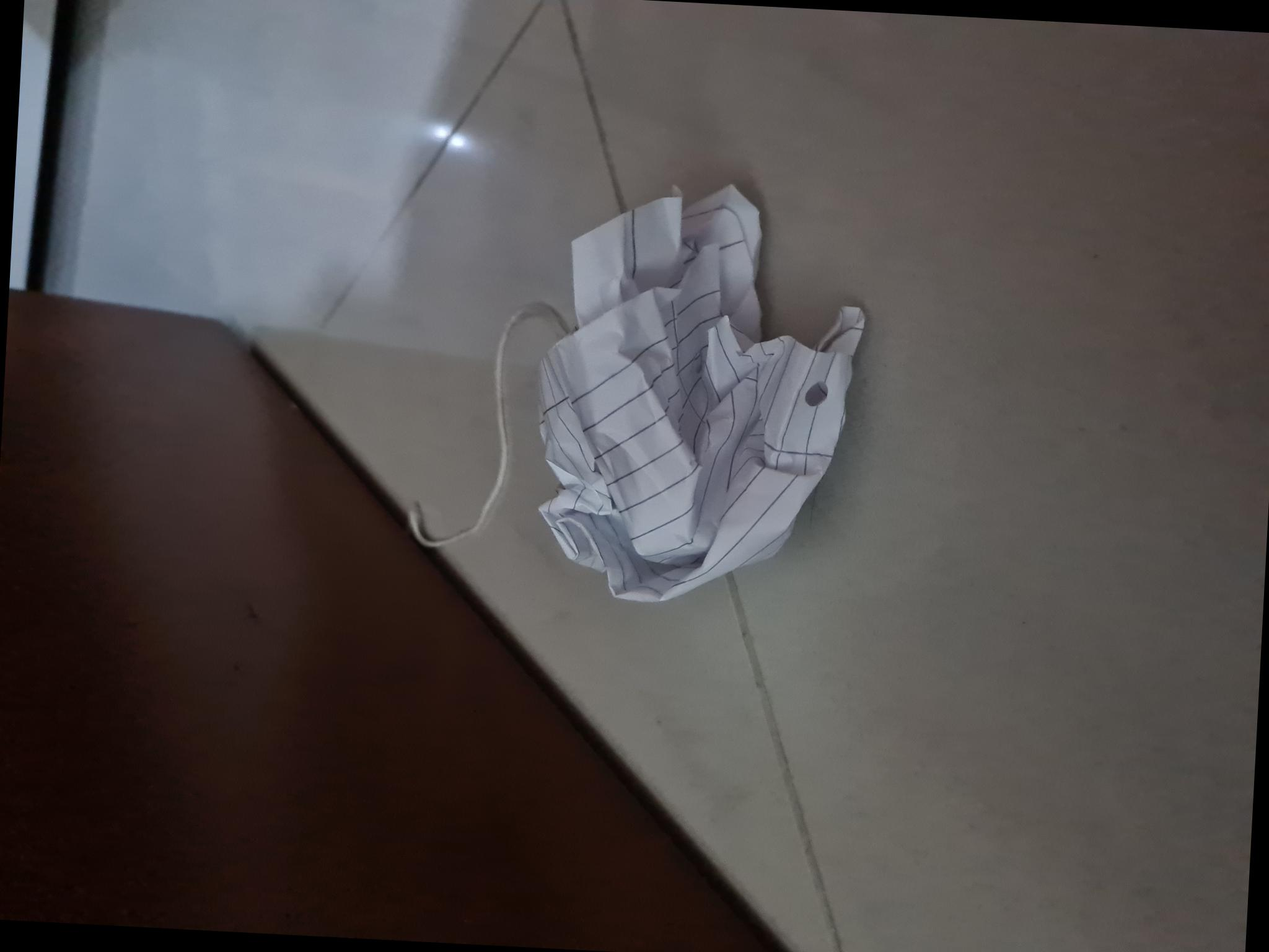Kertas: (342, 528, 758, 854)
